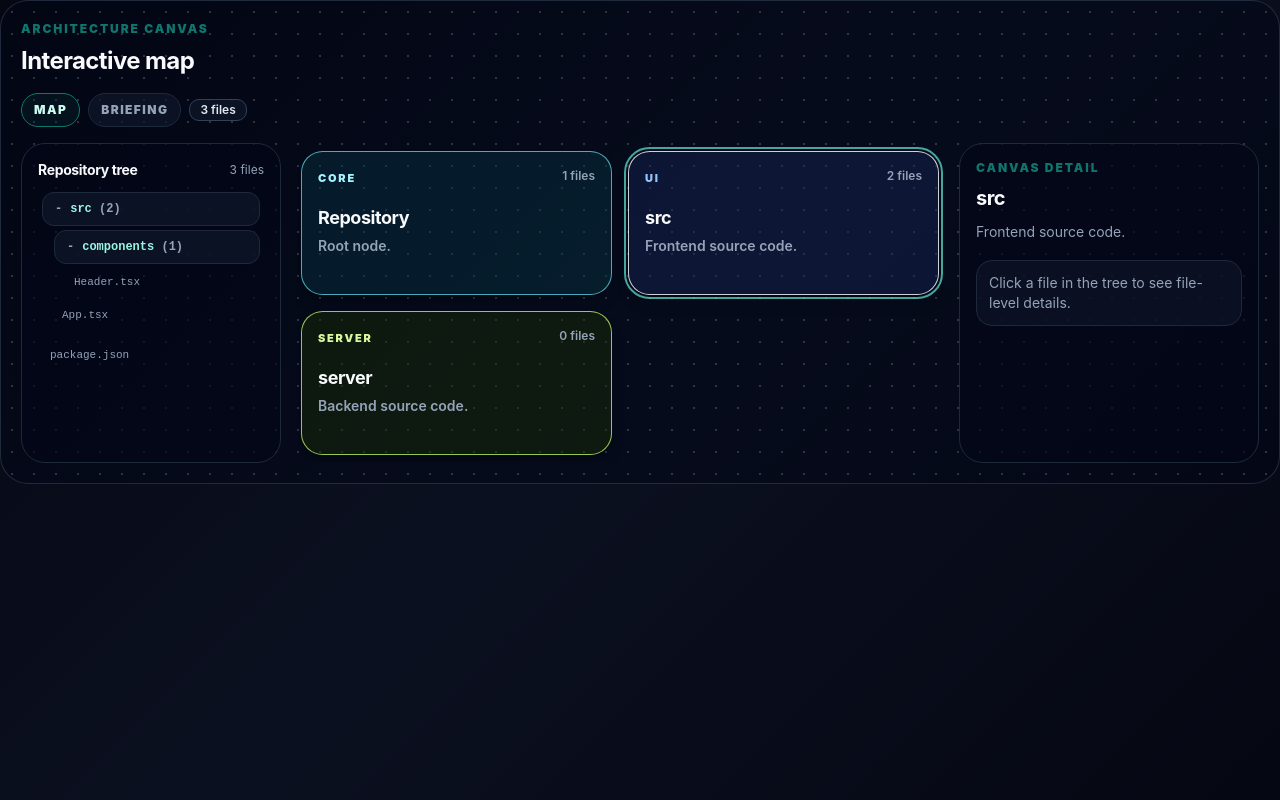
Scenario: ArchitectureMap › renders nested folders and toggles them without selecting a node
Check: the button "Header.tsx" is shown, box [66,268,260,296]
Check: the button "package.json" is shown, box [42,341,260,370]
Click the button "-components (1)": (157, 247) [54,230,260,264]
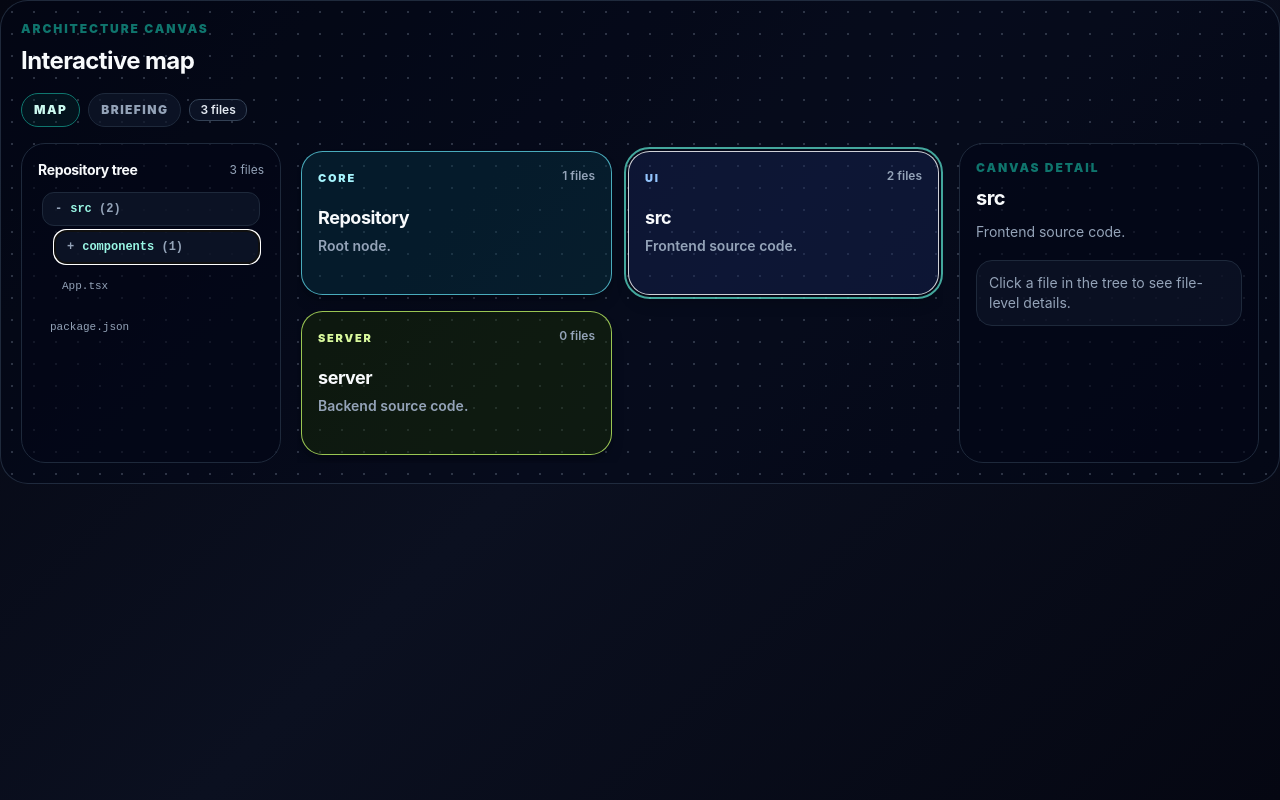
Check: the button "Header.tsx" is gone
Click the button "+components (1)": (157, 247) [54,230,260,264]
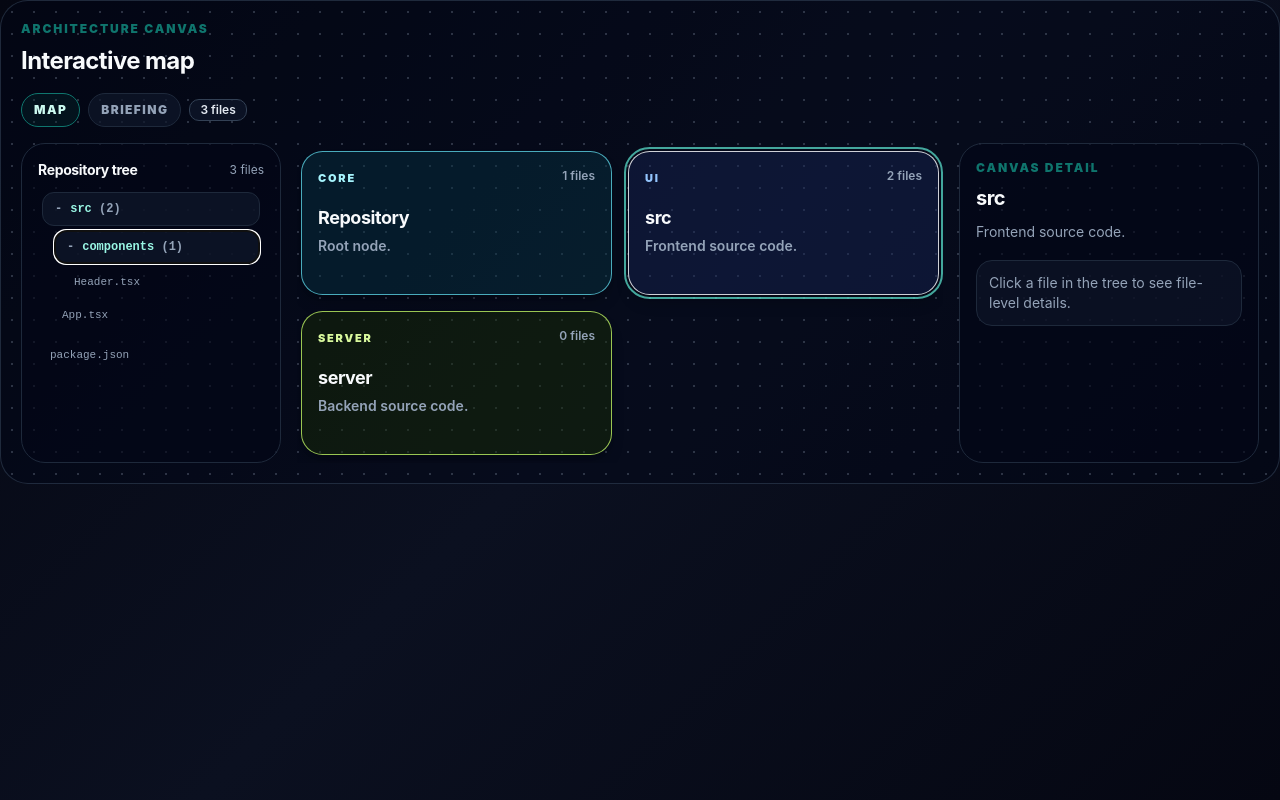
Check: the button "Header.tsx" is shown, box [66,268,260,296]
